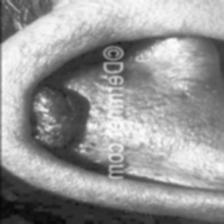Potentially Malignant Skin Tumors: (26, 82, 88, 150)
